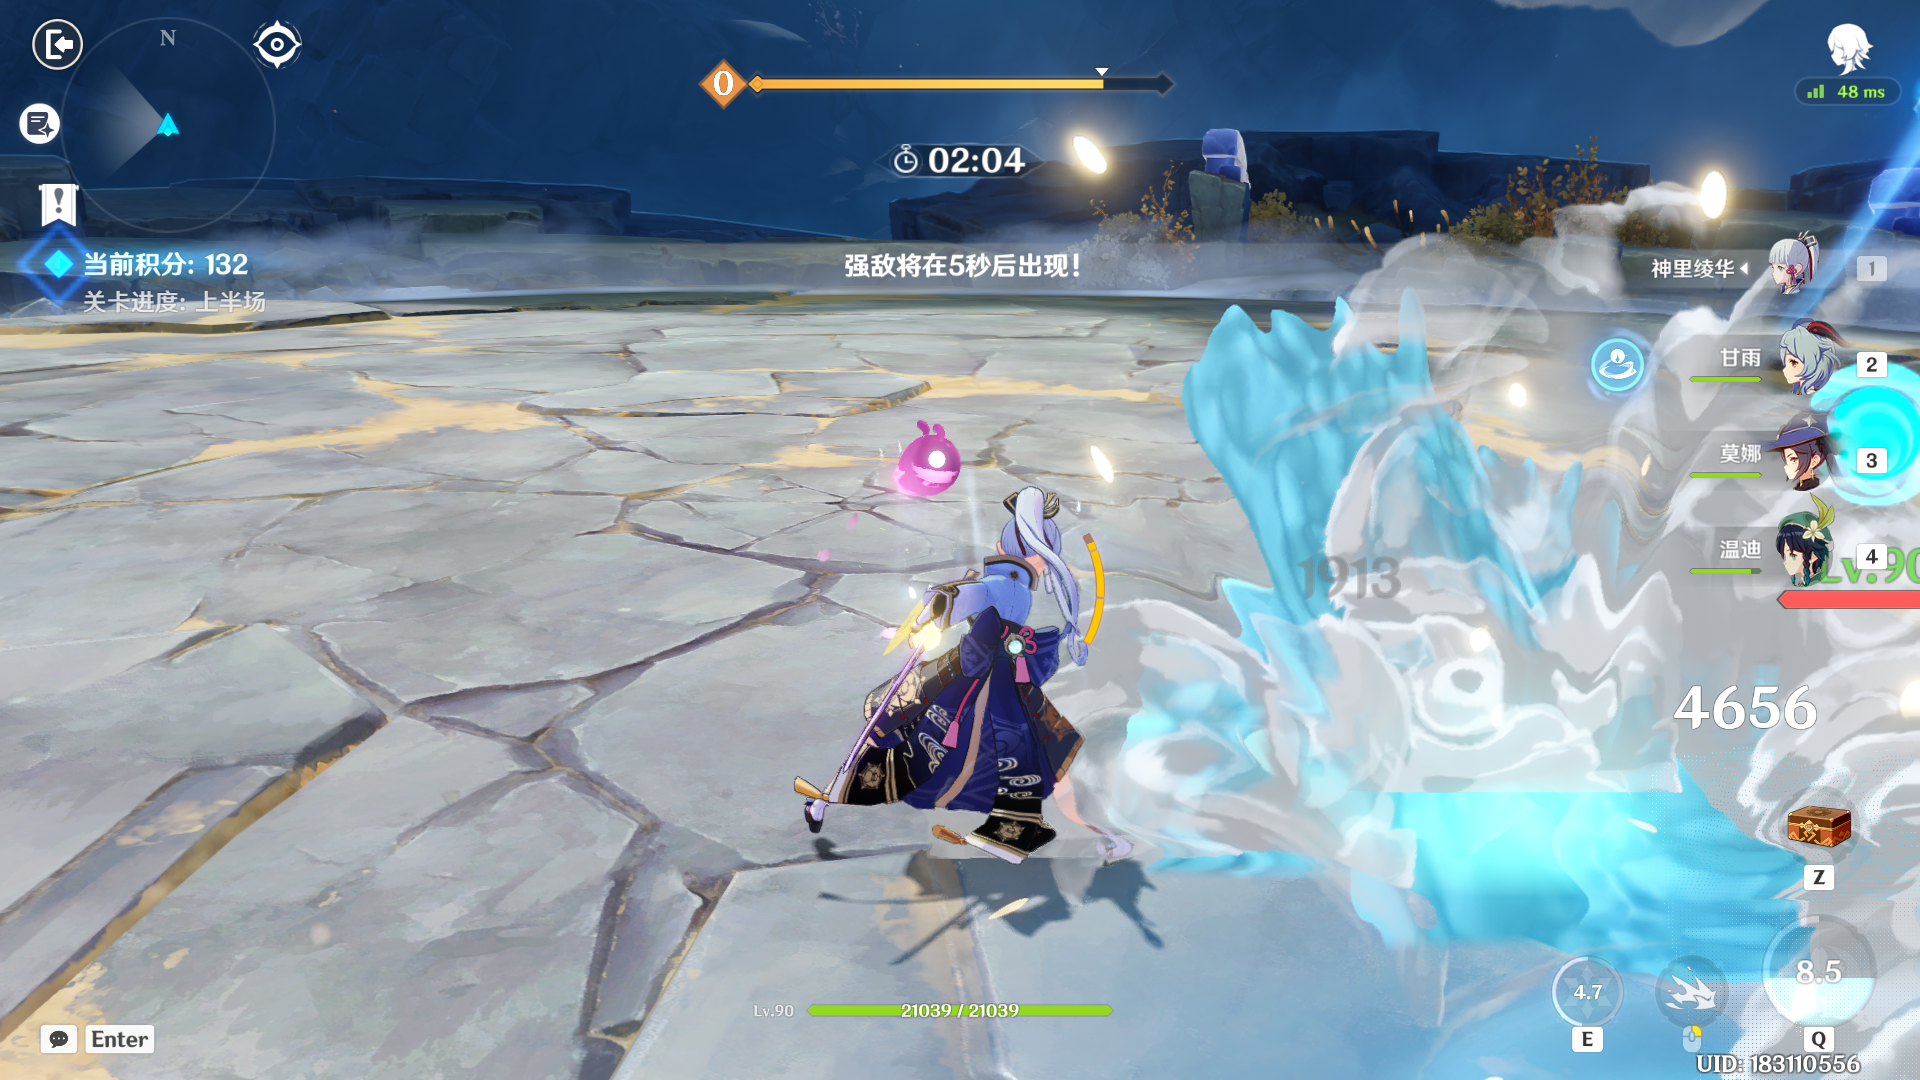character: (767, 429, 1116, 939)
